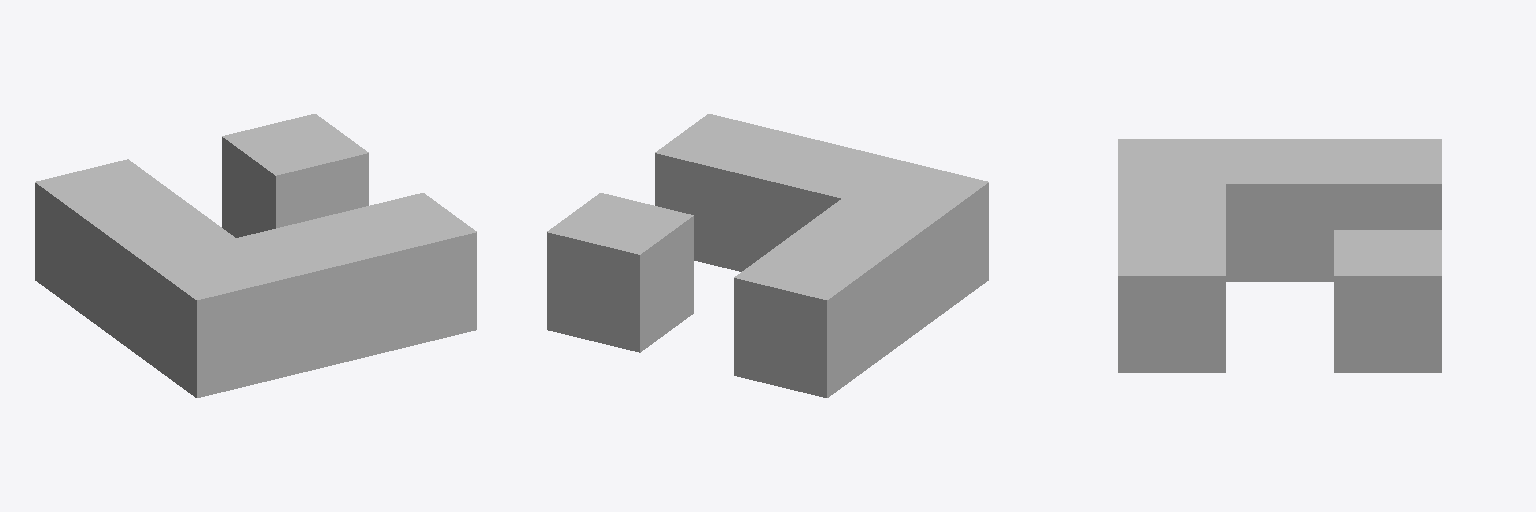
File: Cornermaze.obj
3 renders of one model, left to right at view 1: azimuth 30°, elevation 25°; view 2: azimuth 150°, elevation 25°; view 3: azimuth 270°, elevation 25°, orthographic.
Visible parts, largest first — view 1: Cube.003_Cube.009; view 2: Cube.003_Cube.009; view 3: Cube.003_Cube.009.
Part boxes in pixels (x1,y1,x2,y2): Cube.003_Cube.009: (35,114,476,397); Cube.003_Cube.009: (547,114,988,397); Cube.003_Cube.009: (1118,139,1441,372).
Bounding box in the file's own units: 24 × 8 × 24.